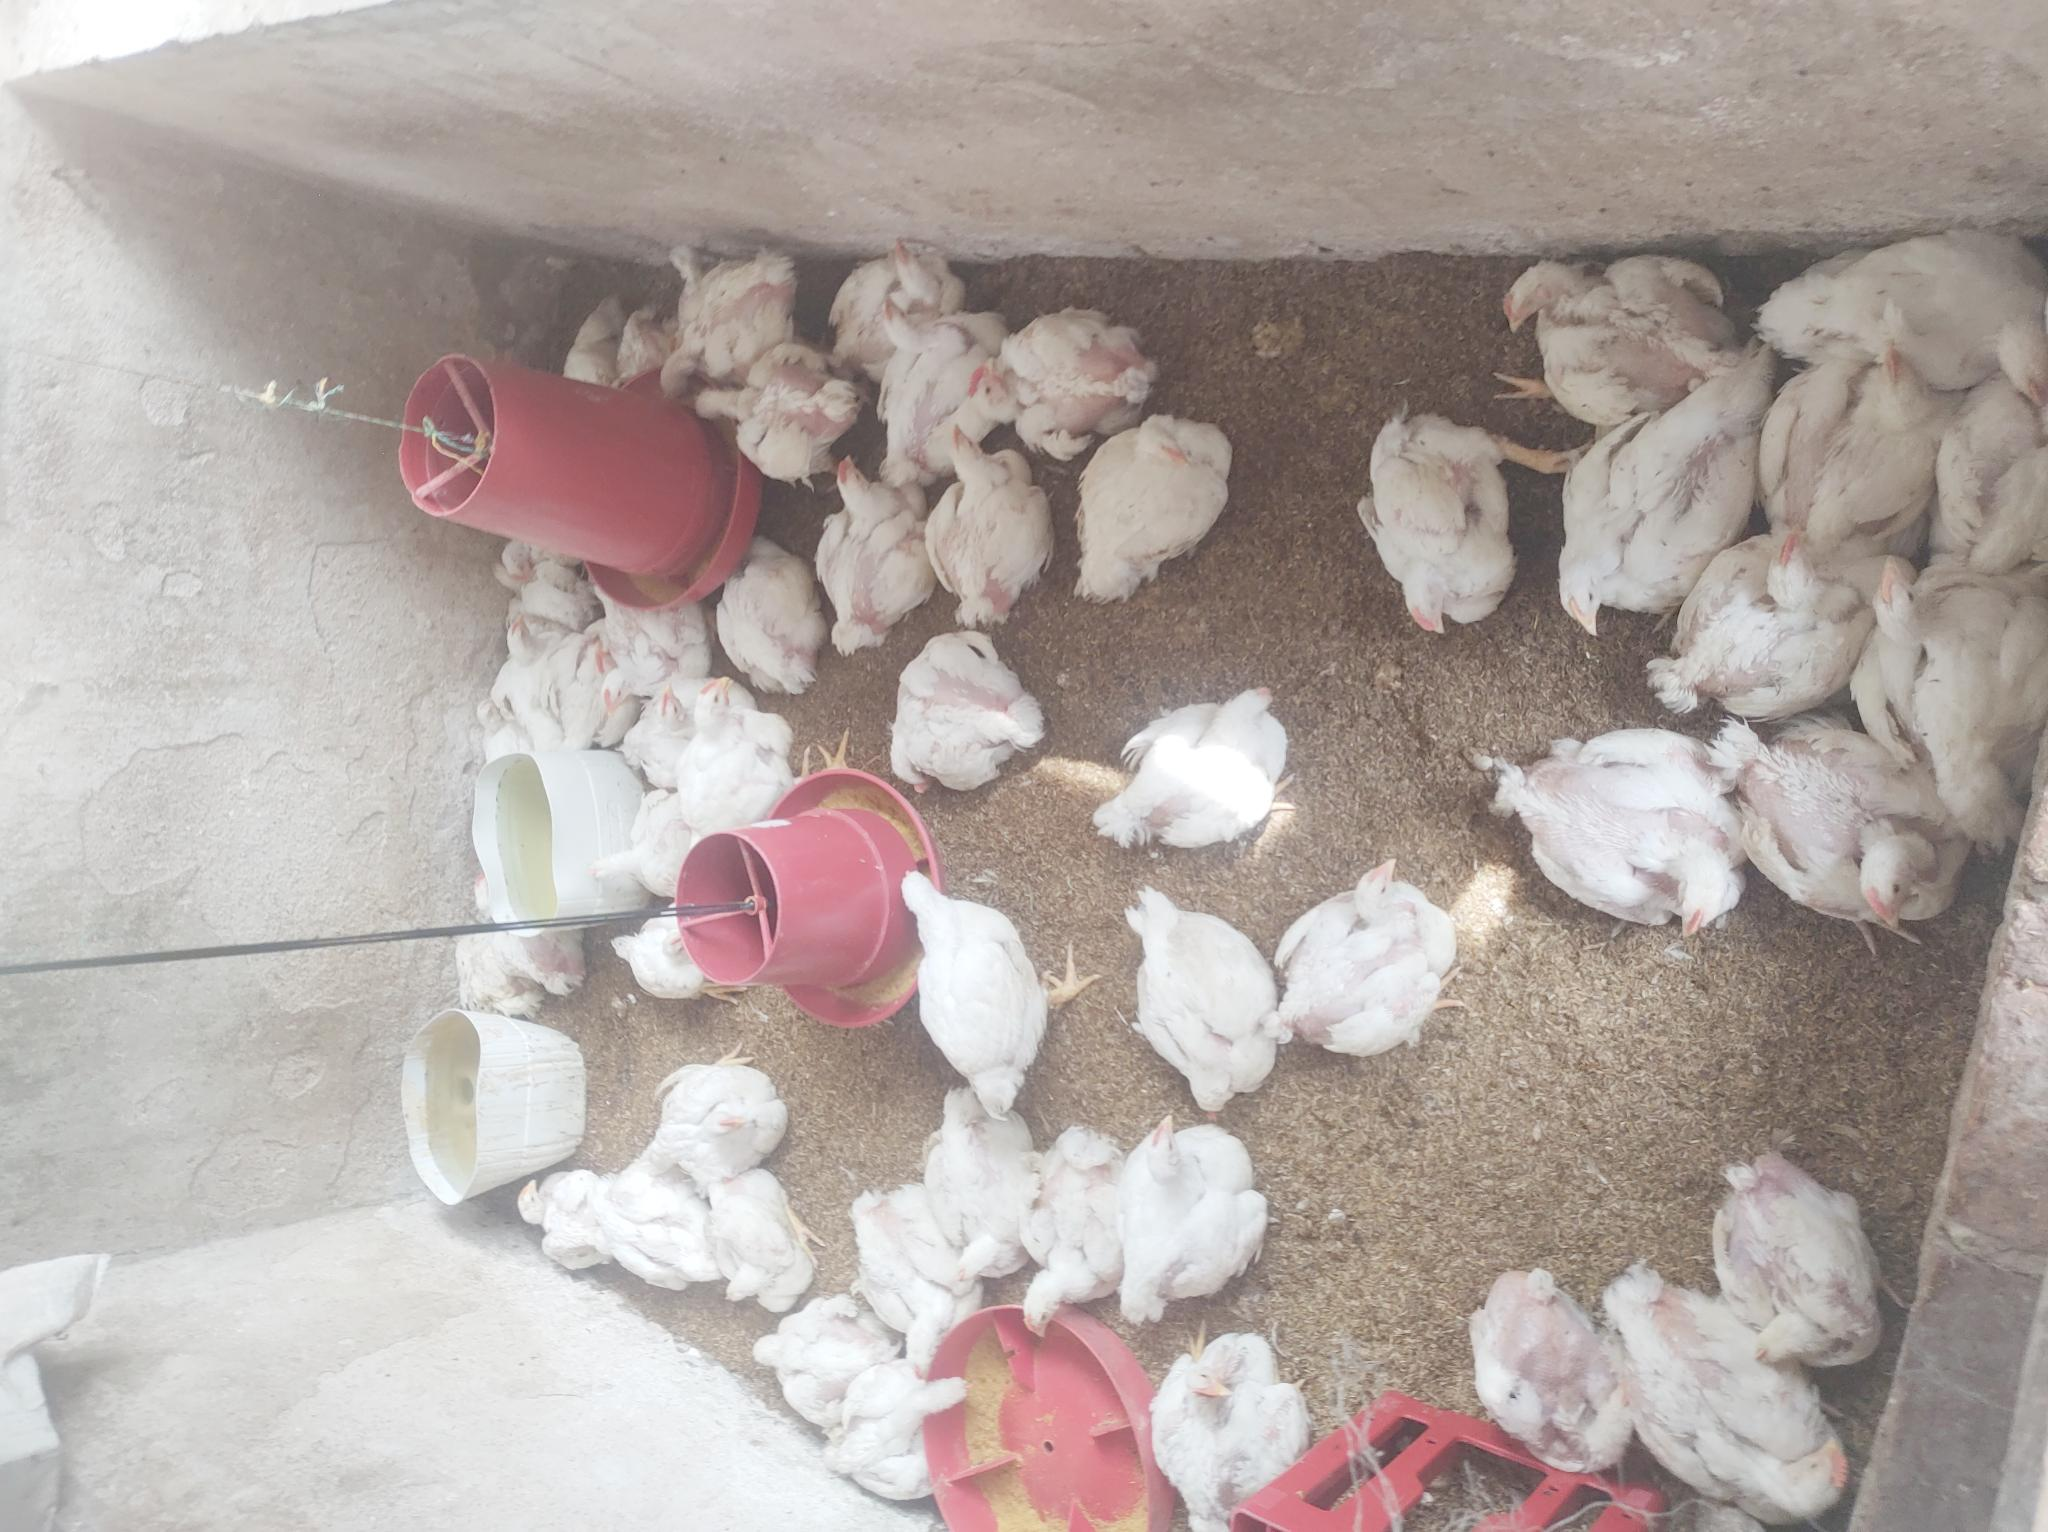Pollos: (1850, 484, 2048, 834), (1602, 1260, 1857, 1522), (1544, 359, 1778, 624), (1498, 726, 1742, 937), (1729, 719, 1964, 932), (1810, 204, 2048, 389), (1142, 1316, 1347, 1532), (1726, 1143, 1918, 1366), (1285, 846, 1467, 1078), (1755, 343, 1958, 544), (896, 863, 1071, 1094), (1470, 1226, 1625, 1482), (1372, 386, 1528, 632), (1060, 410, 1248, 612), (1507, 235, 1718, 407), (1115, 1094, 1273, 1324), (1096, 661, 1282, 853), (1118, 890, 1289, 1094), (1918, 290, 2048, 554), (1655, 554, 1861, 716), (859, 290, 1010, 475), (923, 420, 1051, 637), (840, 1168, 989, 1352), (890, 636, 1038, 806), (809, 451, 936, 649), (977, 306, 1152, 447), (681, 349, 856, 484), (825, 1361, 973, 1508), (417, 895, 550, 1052), (664, 235, 800, 389), (1014, 1130, 1121, 1320), (695, 682, 822, 840), (652, 1035, 806, 1162), (718, 521, 829, 695), (933, 1081, 1031, 1266), (602, 1159, 718, 1315), (837, 253, 970, 377), (735, 1291, 877, 1403), (705, 1167, 819, 1297), (574, 769, 681, 909), (574, 904, 708, 1015), (504, 1130, 597, 1287), (611, 586, 705, 706), (565, 286, 655, 401), (446, 686, 557, 760), (470, 541, 581, 605), (507, 513, 590, 581), (634, 692, 705, 766), (491, 608, 560, 682), (565, 636, 627, 686)
